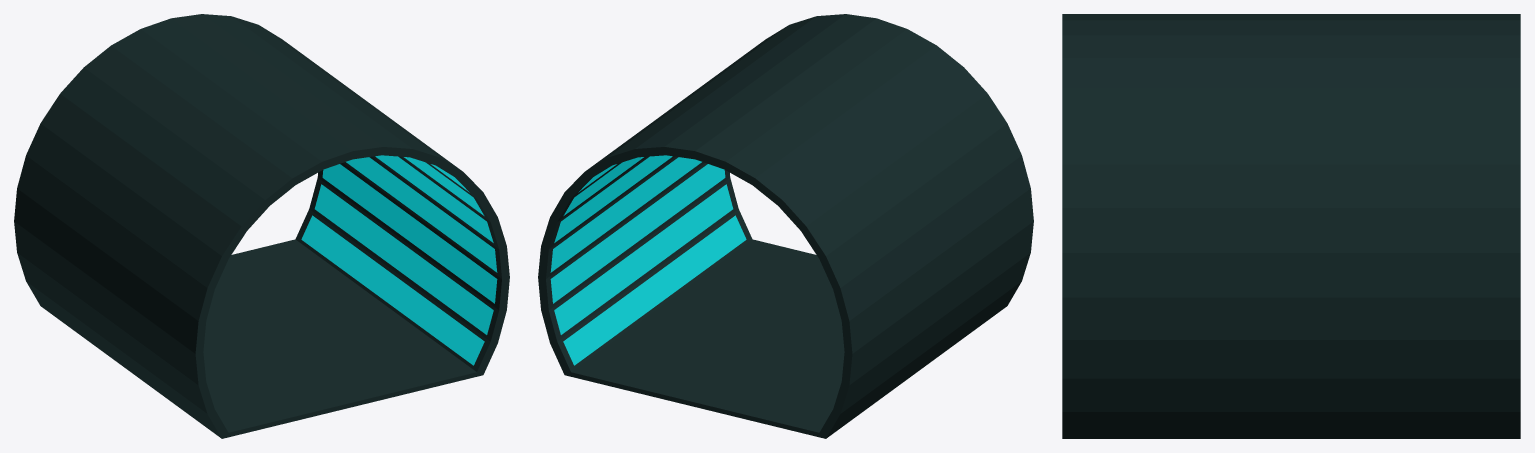
File: Passage.fbx
The picture shows the model from 3 angles, left to right: view 1: azimuth 30°, elevation 25°; view 2: azimuth 150°, elevation 25°; view 3: azimuth 270°, elevation 25°; orthographic projection. The views are drawn at different scales.
Visible parts, largest first — view 1: Cylinder; view 2: Cylinder; view 3: Cylinder.
Boxes of the visible parts, bbox=[...] form: Cylinder: bbox=[14, 14, 509, 438]; Cylinder: bbox=[538, 14, 1033, 438]; Cylinder: bbox=[1062, 14, 1520, 438].
Size of the model in its own units: 20000 by 15556 by 20000.
